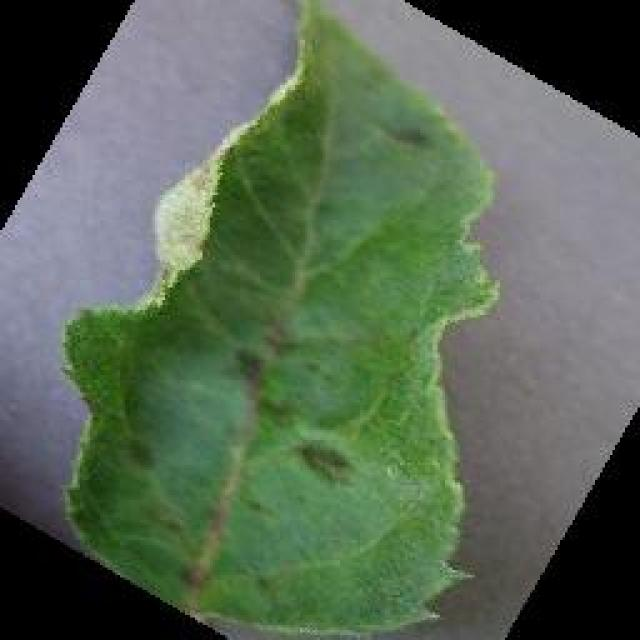apple scab disease: (58, 0, 502, 638)
